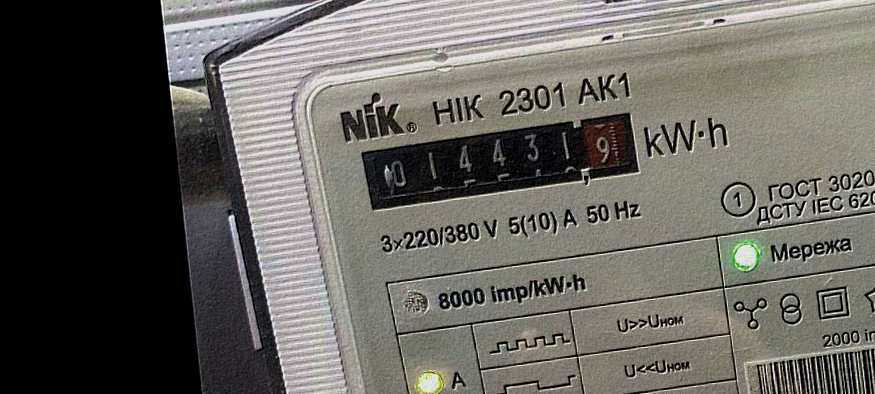0: (387, 155, 410, 190)
1: (422, 147, 443, 181), (558, 128, 574, 161)
3: (521, 131, 543, 165)
4: (453, 140, 477, 175), (487, 134, 509, 169)
9: (593, 132, 613, 164)
screen: (351, 103, 654, 219)
